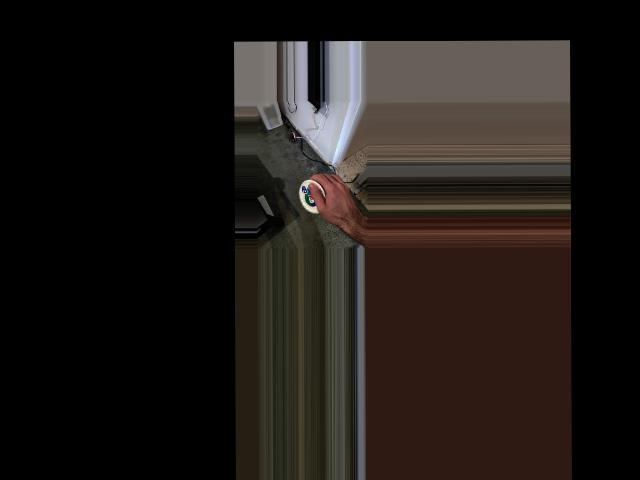cotage: (298, 179, 328, 213)
